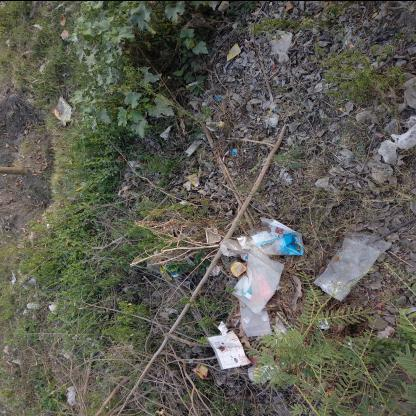plastik: (315, 231, 393, 301), (232, 245, 286, 313)
